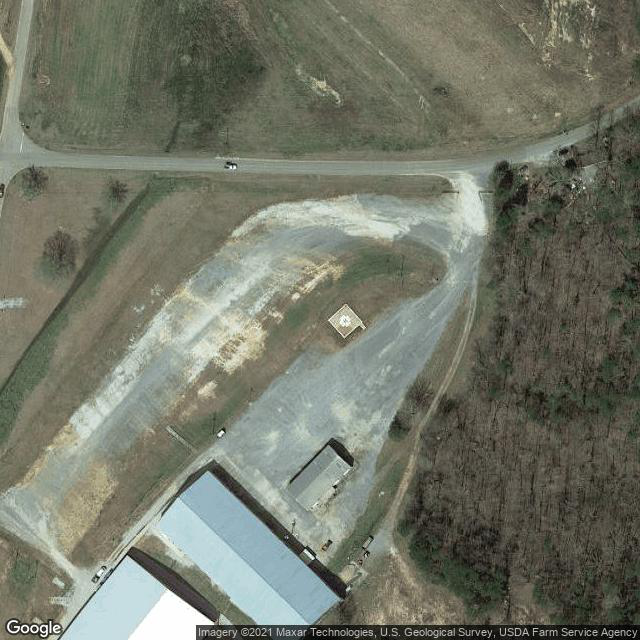Helipad: (325, 302, 364, 338)
